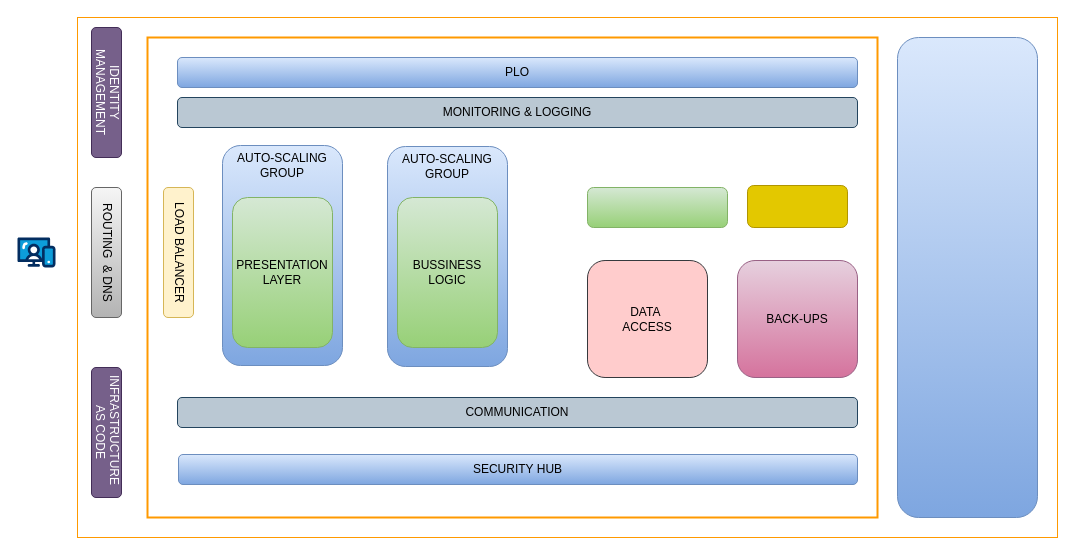
Image size: 1075x555. Some labels were removed from this diagram. Each missing label, with the centre of its shape:
"DEVELOPMENT CYCLE" goes at (967,277).
"REPLICATION" goes at (797,206).
"STORAGE" goes at (657,207).
